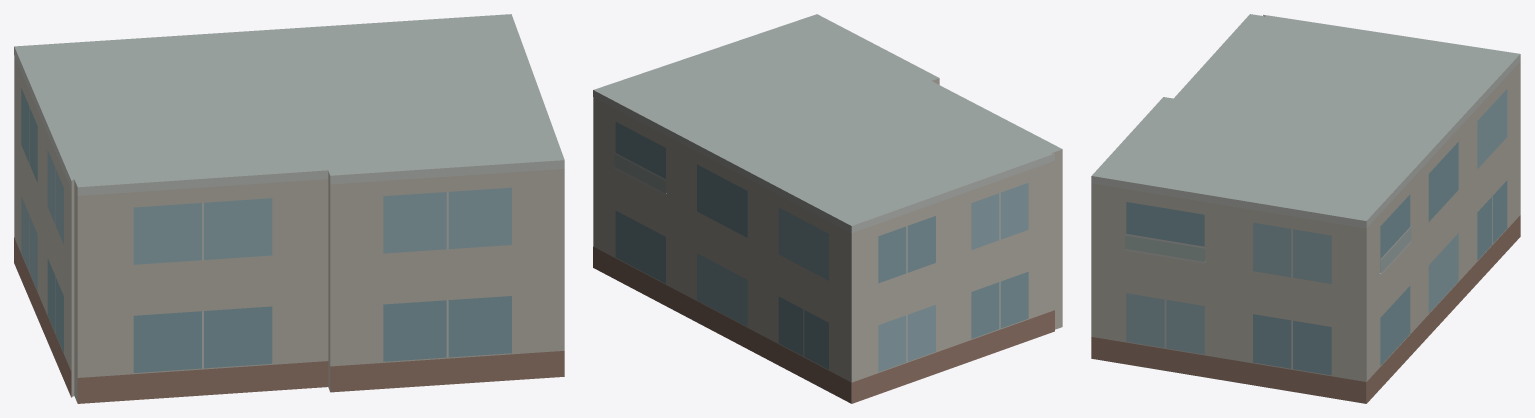
The model's file is survey-upis-32934025.glb.
3 views of the same model, side by side, from view 1: azimuth 30°, elevation 25°; view 2: azimuth 150°, elevation 25°; view 3: azimuth 270°, elevation 25° (orthographic). The views are drawn at different scales.
Parts seen in each view (by area): view 1: survey-upis-32934025.tmp; view 2: survey-upis-32934025.tmp; view 3: survey-upis-32934025.tmp.
Boxes of the visible parts, x1,y1,x2,y2 form: survey-upis-32934025.tmp: [14, 14, 564, 403]; survey-upis-32934025.tmp: [593, 14, 1062, 403]; survey-upis-32934025.tmp: [1091, 14, 1520, 403].
Bounding box in the file's own units: 14.83 × 6.1 × 12.99.
